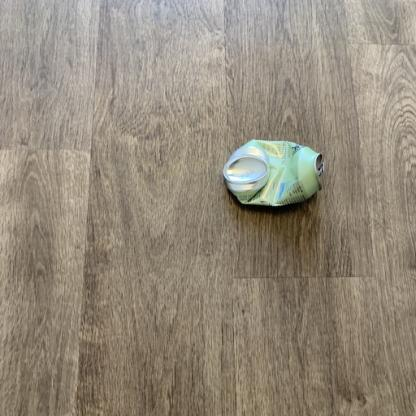trash: (213, 129, 343, 212)
